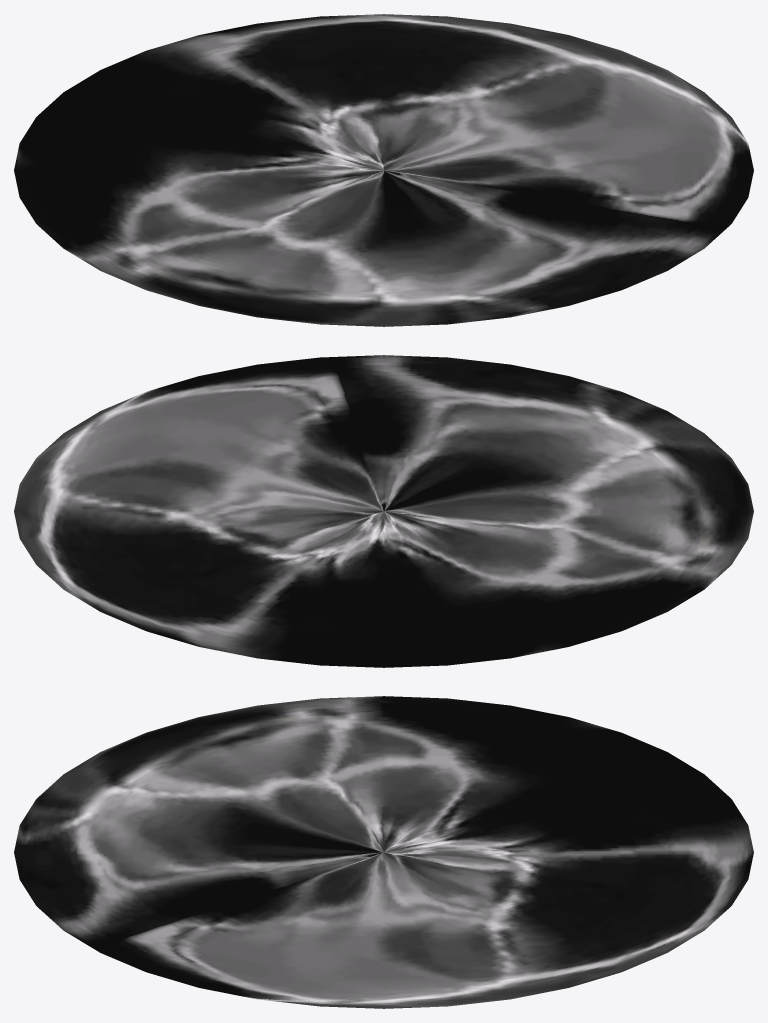
The model's file is fx_yuanxingB.fbx.
3 renders of one model, top to bottom at view 1: azimuth 30°, elevation 25°; view 2: azimuth 150°, elevation 25°; view 3: azimuth 270°, elevation 25°, orthographic.
Parts seen in each view (by area): view 1: pTorus1; view 2: pTorus1; view 3: pTorus1.
Boxes of the visible parts, left/top/right/bottom form: pTorus1: left=14, top=14, right=753, bottom=326; pTorus1: left=14, top=355, right=753, bottom=667; pTorus1: left=14, top=696, right=753, bottom=1008.
Size of the model in its own units: 239 by 0 by 239.
